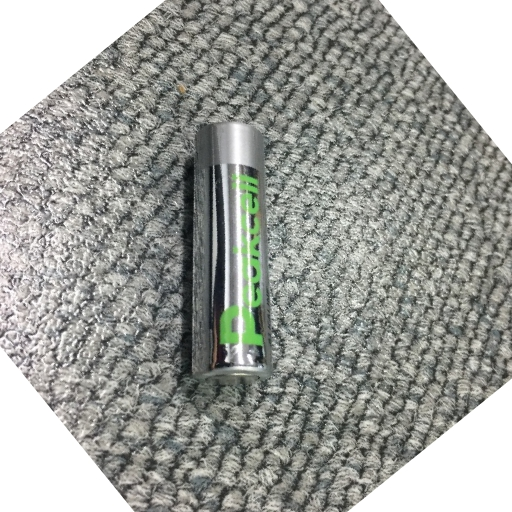Battery_0: (175, 109, 281, 396)
